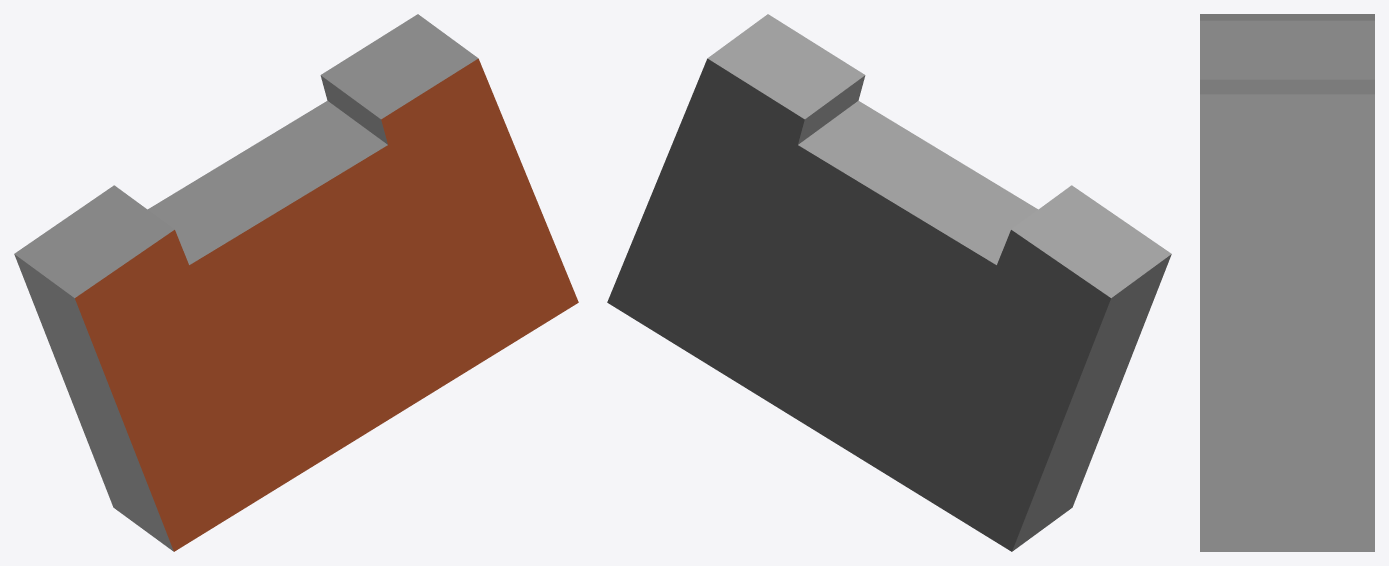
File: construction_5959_assumed_A_Casa_h6m.obj
The picture shows the model from 3 angles, left to right: view 1: azimuth 30°, elevation 25°; view 2: azimuth 150°, elevation 25°; view 3: azimuth 270°, elevation 25°; orthographic projection. The views are drawn at different scales.
Visible parts, largest first — view 1: construction_5959_assumed_A_Casa; view 2: construction_5959_assumed_A_Casa; view 3: construction_5959_assumed_A_Casa.
Part boxes in pixels (left/top/right/bottom): construction_5959_assumed_A_Casa: left=14, top=14, right=578, bottom=551; construction_5959_assumed_A_Casa: left=607, top=14, right=1171, bottom=551; construction_5959_assumed_A_Casa: left=1200, top=14, right=1374, bottom=551.
Bounding box in the file's own units: 28.8 × 22.89 × 6.
